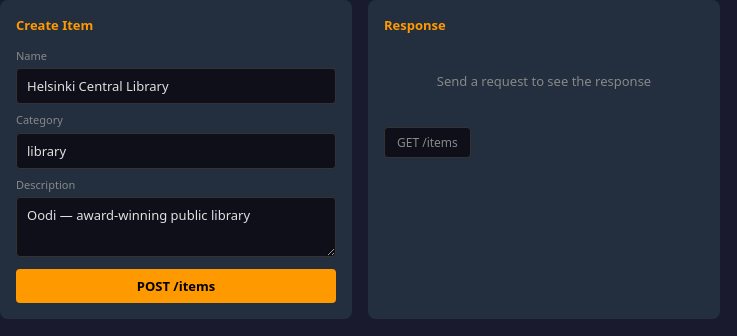
Test: CrudDemo › shows error when API URL not configured
The width and height of the screenshot is (737, 336).
Click the button "POST /items". click: [176, 286]
box: [16, 269, 336, 303]
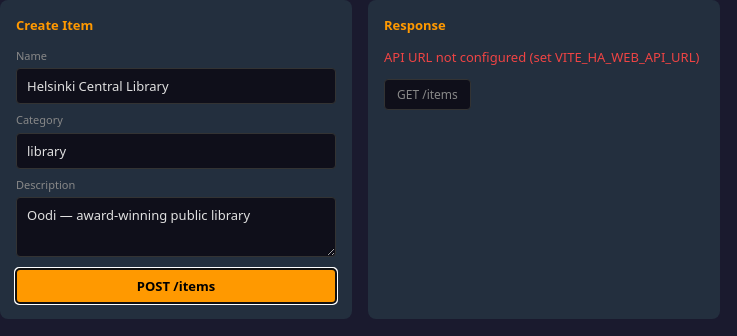
Check: the text "API URL not configured (set VITE_HA_WEB_API_URL)" is shown, box [384, 48, 704, 67]
